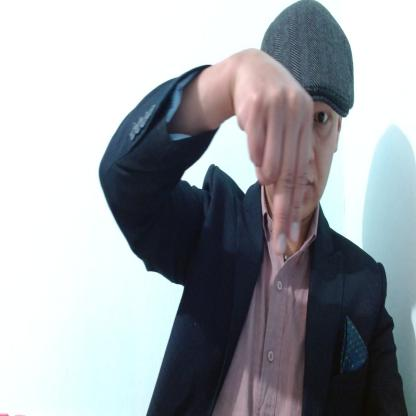N: (228, 49, 314, 256)
